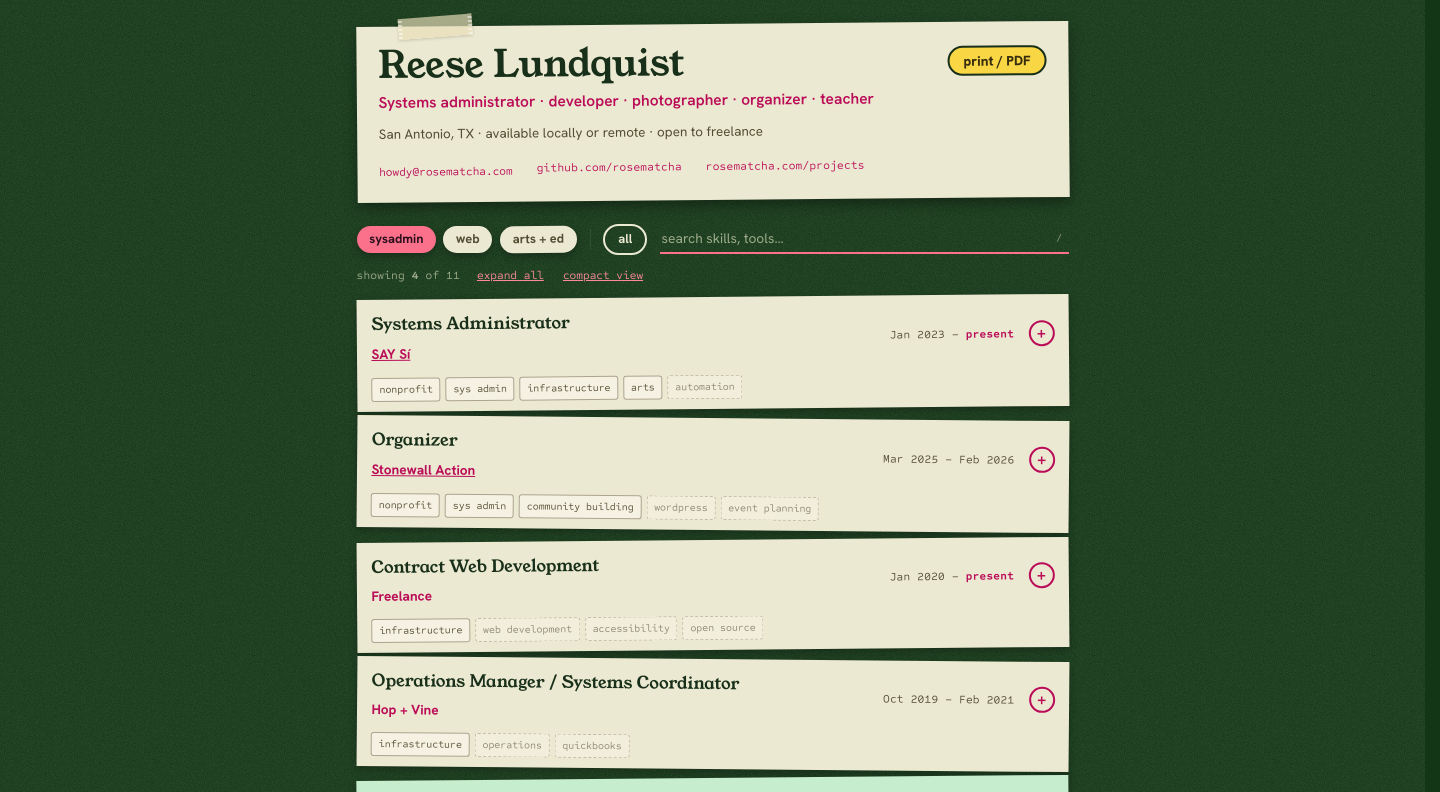
Test case: ResumePage › expands an entry and flags the open state on the card
The width and height of the screenshot is (1440, 792).
Step 1. Click the button with aria-label "Systems Administrator, SAY Sí" → (470, 323), box [370,307,875,338]
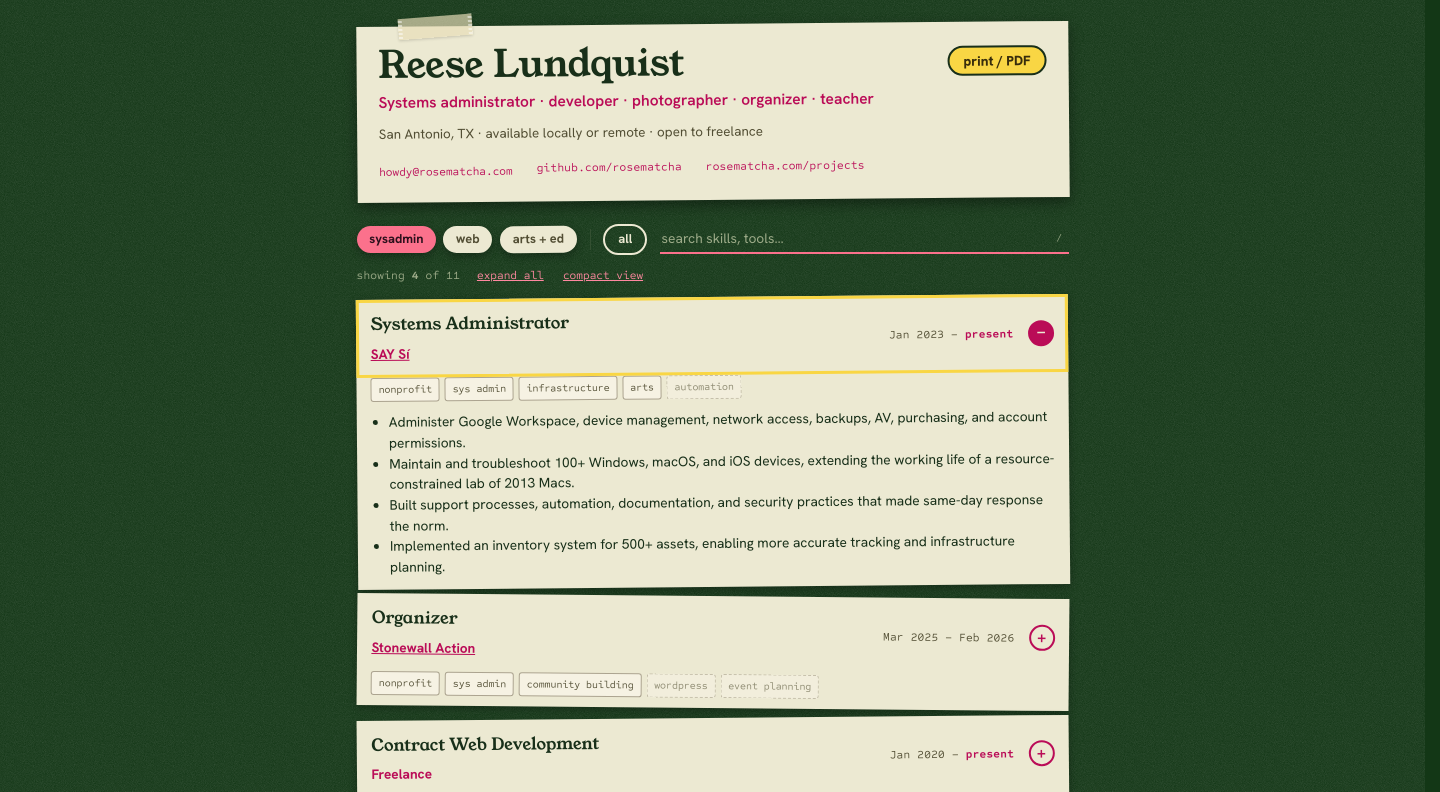
Result: the button with aria-label "Systems Administrator, SAY Sí" is expanded at [370,307,874,338]
Result: the element with class "resume-entry--open" is shown at [355,294,1070,591]
